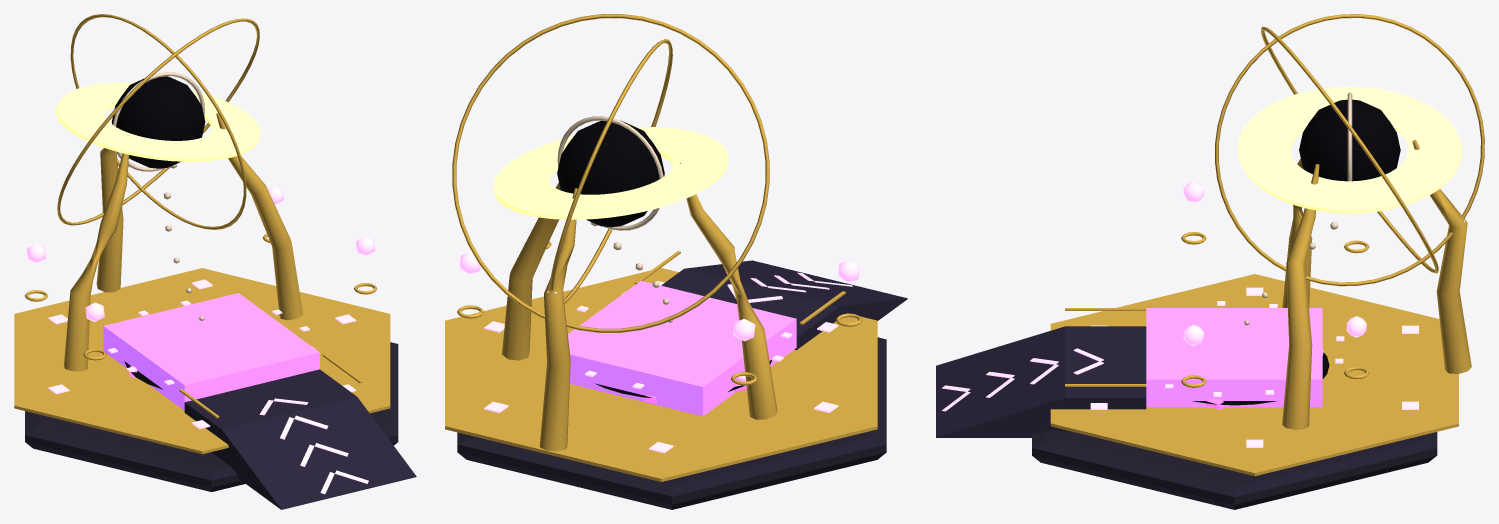
Rendered from SingularityFurnace_Roblox.fbx.
3 views of the same model, side by side, from view 1: azimuth 30°, elevation 25°; view 2: azimuth 150°, elevation 25°; view 3: azimuth 270°, elevation 25° (orthographic). The views are drawn at different scales.
Visible parts, largest first — view 1: Gold, Conveyor, BurnZone, HullPlate, AccretionGlow, EventHorizon, VoidNeon, Stardust; view 2: Gold, BurnZone, HullPlate, AccretionGlow, Conveyor, EventHorizon, VoidNeon, Stardust; view 3: Gold, Conveyor, AccretionGlow, BurnZone, HullPlate, EventHorizon, VoidNeon, Stardust.
Part boxes in pixels (x1=…): Gold: x1=14, y1=14, x2=390, y2=454; Conveyor: x1=184, y1=369, x2=416, y2=509; BurnZone: x1=103, y1=293, x2=319, y2=410; HullPlate: x1=25, y1=342, x2=398, y2=491; AccretionGlow: x1=56, y1=82, x2=261, y2=161; EventHorizon: x1=112, y1=76, x2=205, y2=389; VoidNeon: x1=27, y1=185, x2=375, y2=494; Stardust: x1=112, y1=72, x2=204, y2=320; Gold: x1=445, y1=14, x2=877, y2=481; BurnZone: x1=568, y1=281, x2=796, y2=416; HullPlate: x1=457, y1=337, x2=886, y2=509; AccretionGlow: x1=493, y1=127, x2=728, y2=219; Conveyor: x1=661, y1=260, x2=907, y2=350; EventHorizon: x1=557, y1=120, x2=771, y2=397; VoidNeon: x1=459, y1=252, x2=860, y2=453; Stardust: x1=557, y1=116, x2=672, y2=322; Gold: x1=1050, y1=14, x2=1484, y2=476; Conveyor: x1=936, y1=326, x2=1146, y2=437; AccretionGlow: x1=1237, y1=86, x2=1462, y2=213; BurnZone: x1=1146, y1=308, x2=1322, y2=407; HullPlate: x1=1032, y1=431, x2=1437, y2=509; EventHorizon: x1=1192, y1=99, x2=1400, y2=405; VoidNeon: x1=942, y1=181, x2=1465, y2=447; Stardust: x1=1244, y1=92, x2=1352, y2=325.
Size of the model in its own units: 1390 by 1365 by 1618.
